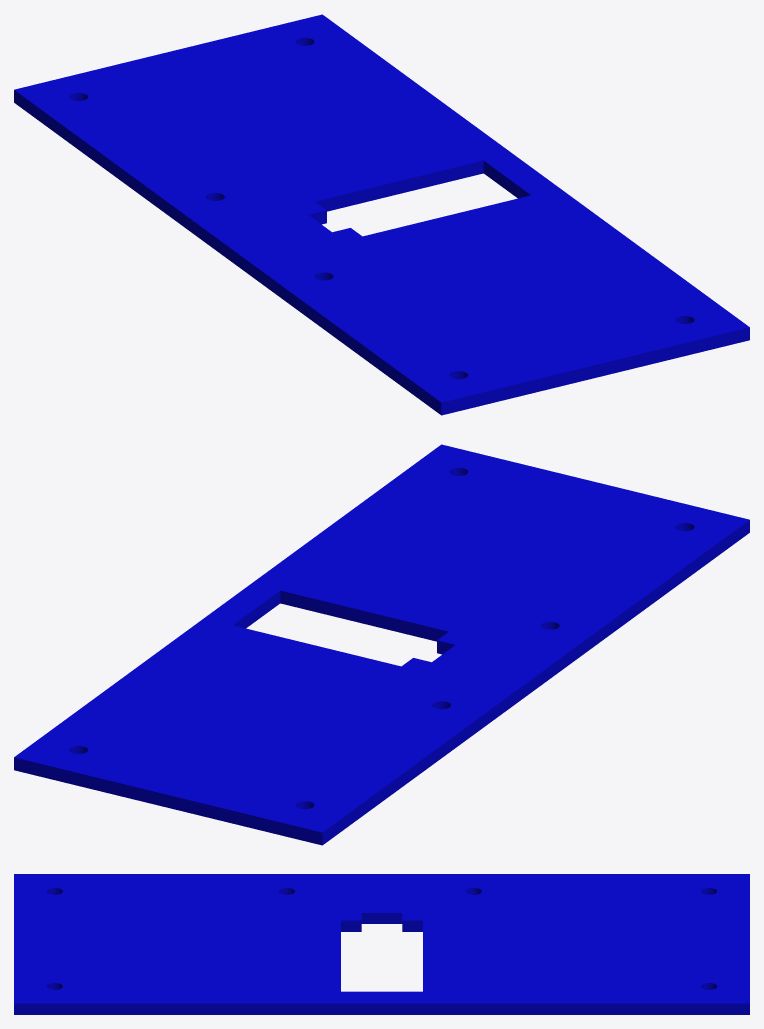
The model's file is fwdPlatform.dae.
3 renders of one model, top to bottom at view 1: azimuth 30°, elevation 25°; view 2: azimuth 150°, elevation 25°; view 3: azimuth 270°, elevation 25°, orthographic. The views are drawn at different scales.
Visible parts, largest first — view 1: fwdPlatform; view 2: fwdPlatform; view 3: fwdPlatform.
Part boxes in pixels (box(x1,y1,x2,y2)): fwdPlatform: box(14, 14, 749, 415); fwdPlatform: box(14, 444, 749, 845); fwdPlatform: box(14, 874, 749, 1014).
Bounding box in the file's own units: 75 × 180 × 3.
